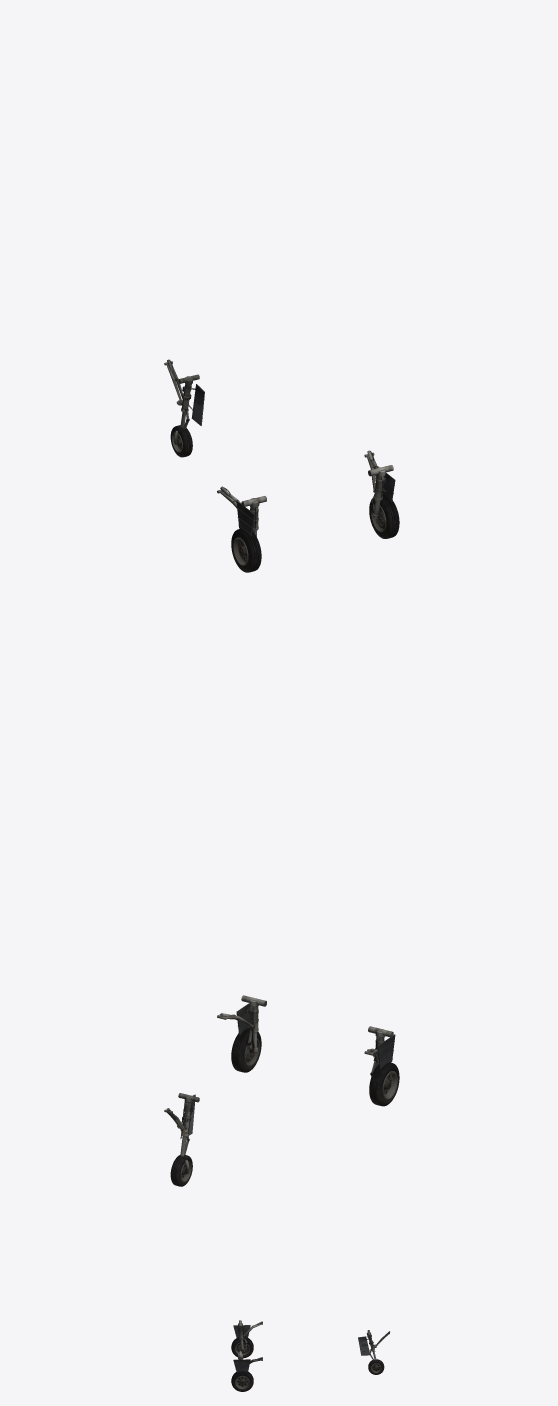
File: e_f15e_gear.glb
3 views of the same model, one above another, from view 1: azimuth 30°, elevation 25°; view 2: azimuth 150°, elevation 25°; view 3: azimuth 270°, elevation 25° (orthographic). The views are drawn at different scales.
Visible parts, largest first — view 1: body|F15_paint; view 2: body|F15_paint; view 3: body|F15_paint.
Boxes of the visible parts, x1,y1,x2,y2 form: body|F15_paint: (164,359,399,572); body|F15_paint: (164,995,399,1186); body|F15_paint: (231,1320,389,1391).
Bounding box in the file's own units: 3.3 × 6.45 × 19.43.
Materials: 1 (1 with a texture image).
